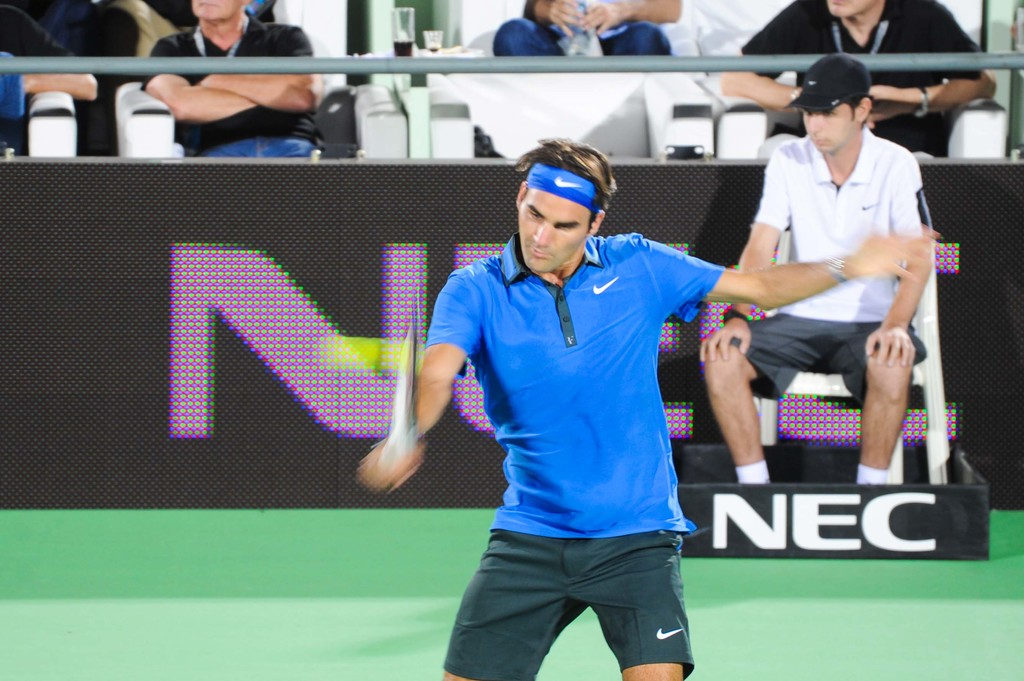Person: (0, 5, 98, 156), (491, 0, 695, 55)
